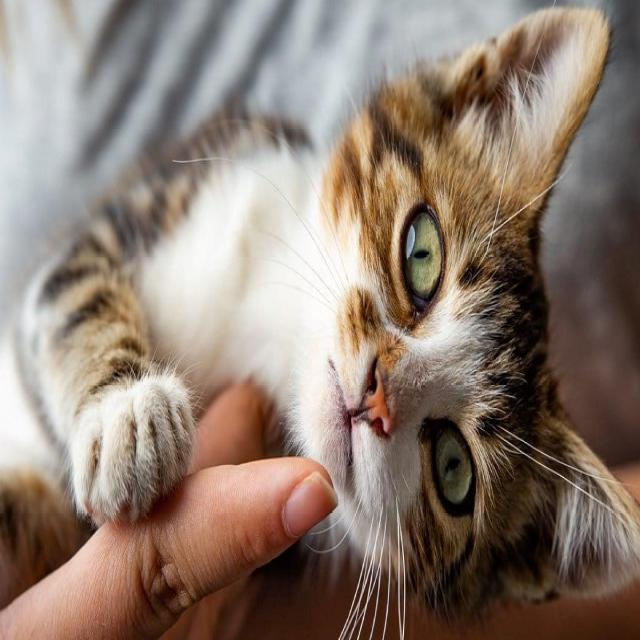Cat: (291, 4, 640, 638)
